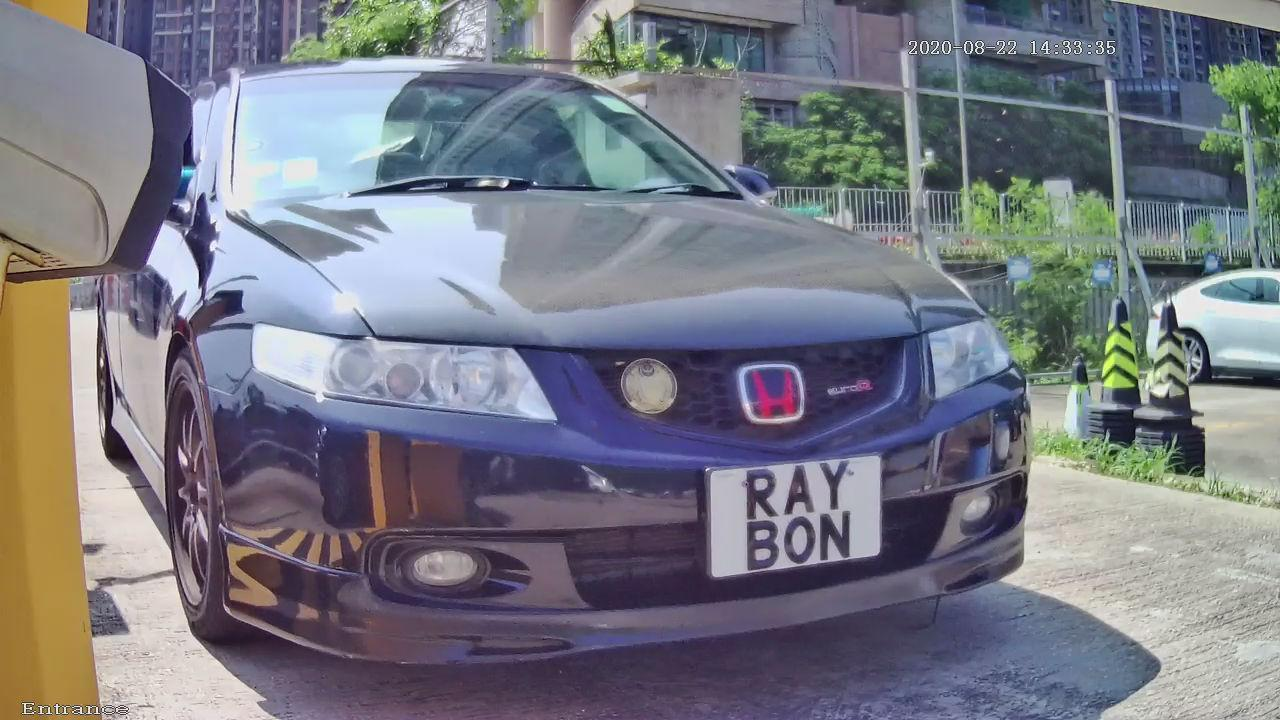Car: (69, 4, 1092, 717)
License Plate: (703, 447, 892, 586)
